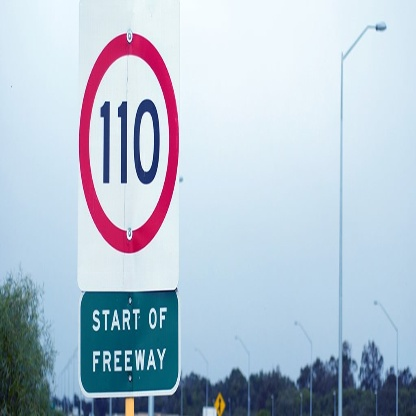limit2: (81, 22, 178, 254)
